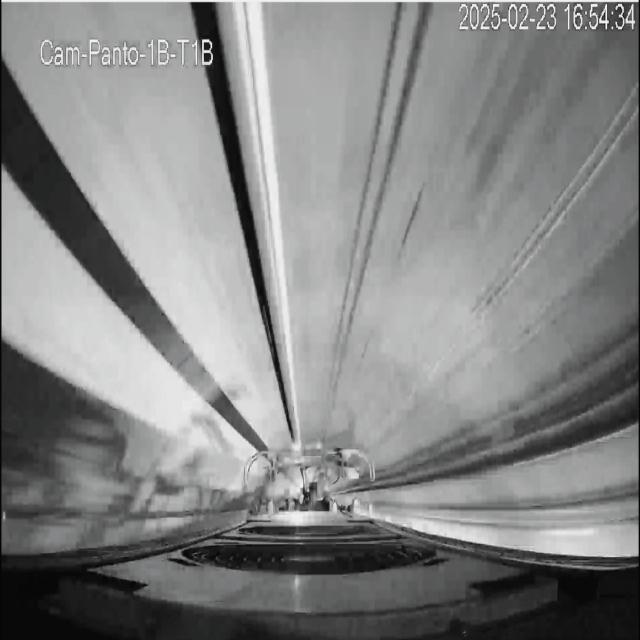Camera Stamp: (36, 30, 218, 70)
Date Stamp: (457, 2, 631, 33)
Sparks: (285, 437, 305, 469)
